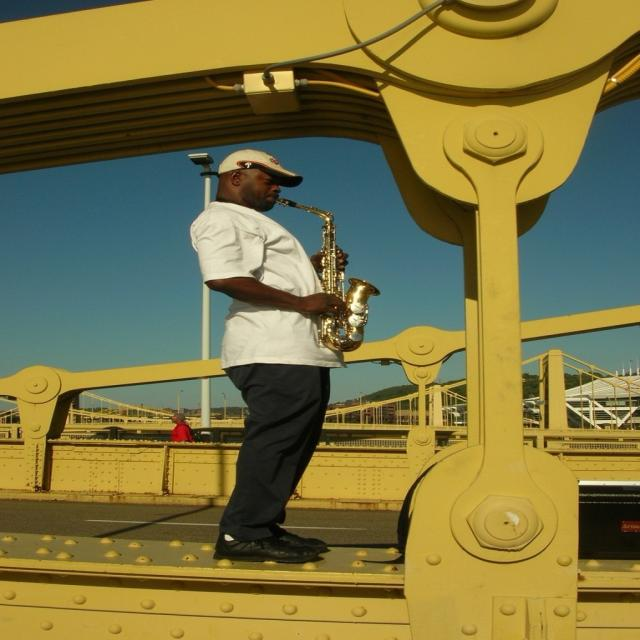saxophone: (264, 194, 387, 355)
